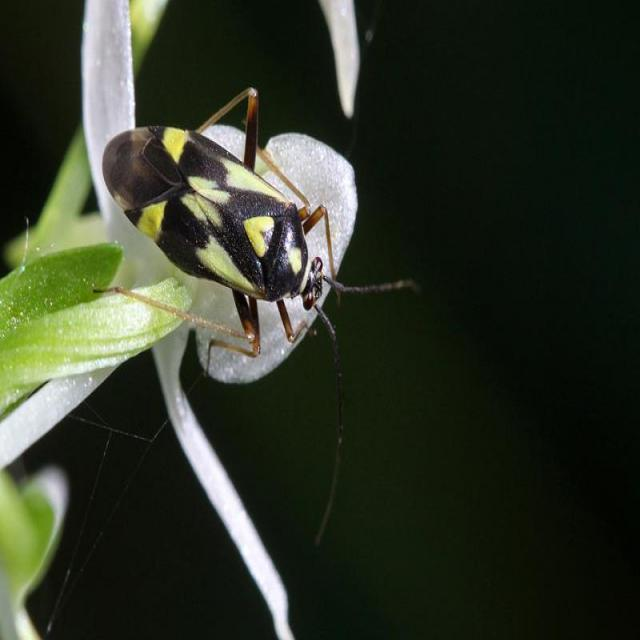Miridae-Adult-: (88, 85, 384, 422)
